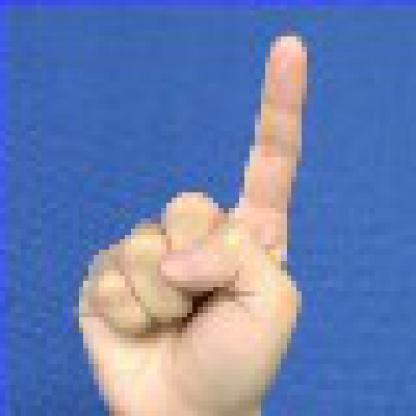one: (52, 21, 338, 411)
